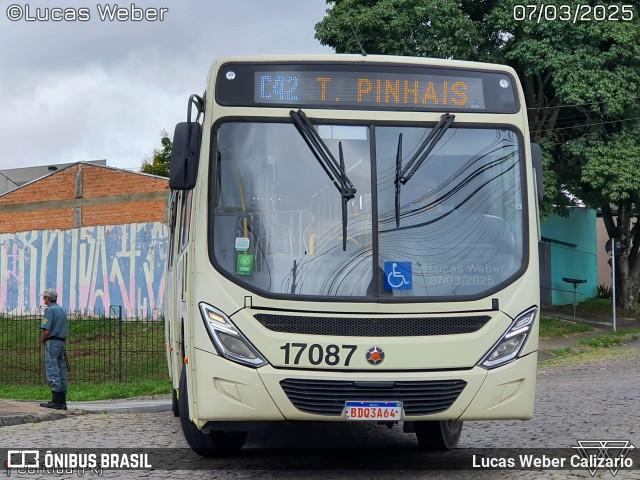T.PINHAIS: (312, 74, 476, 112)
